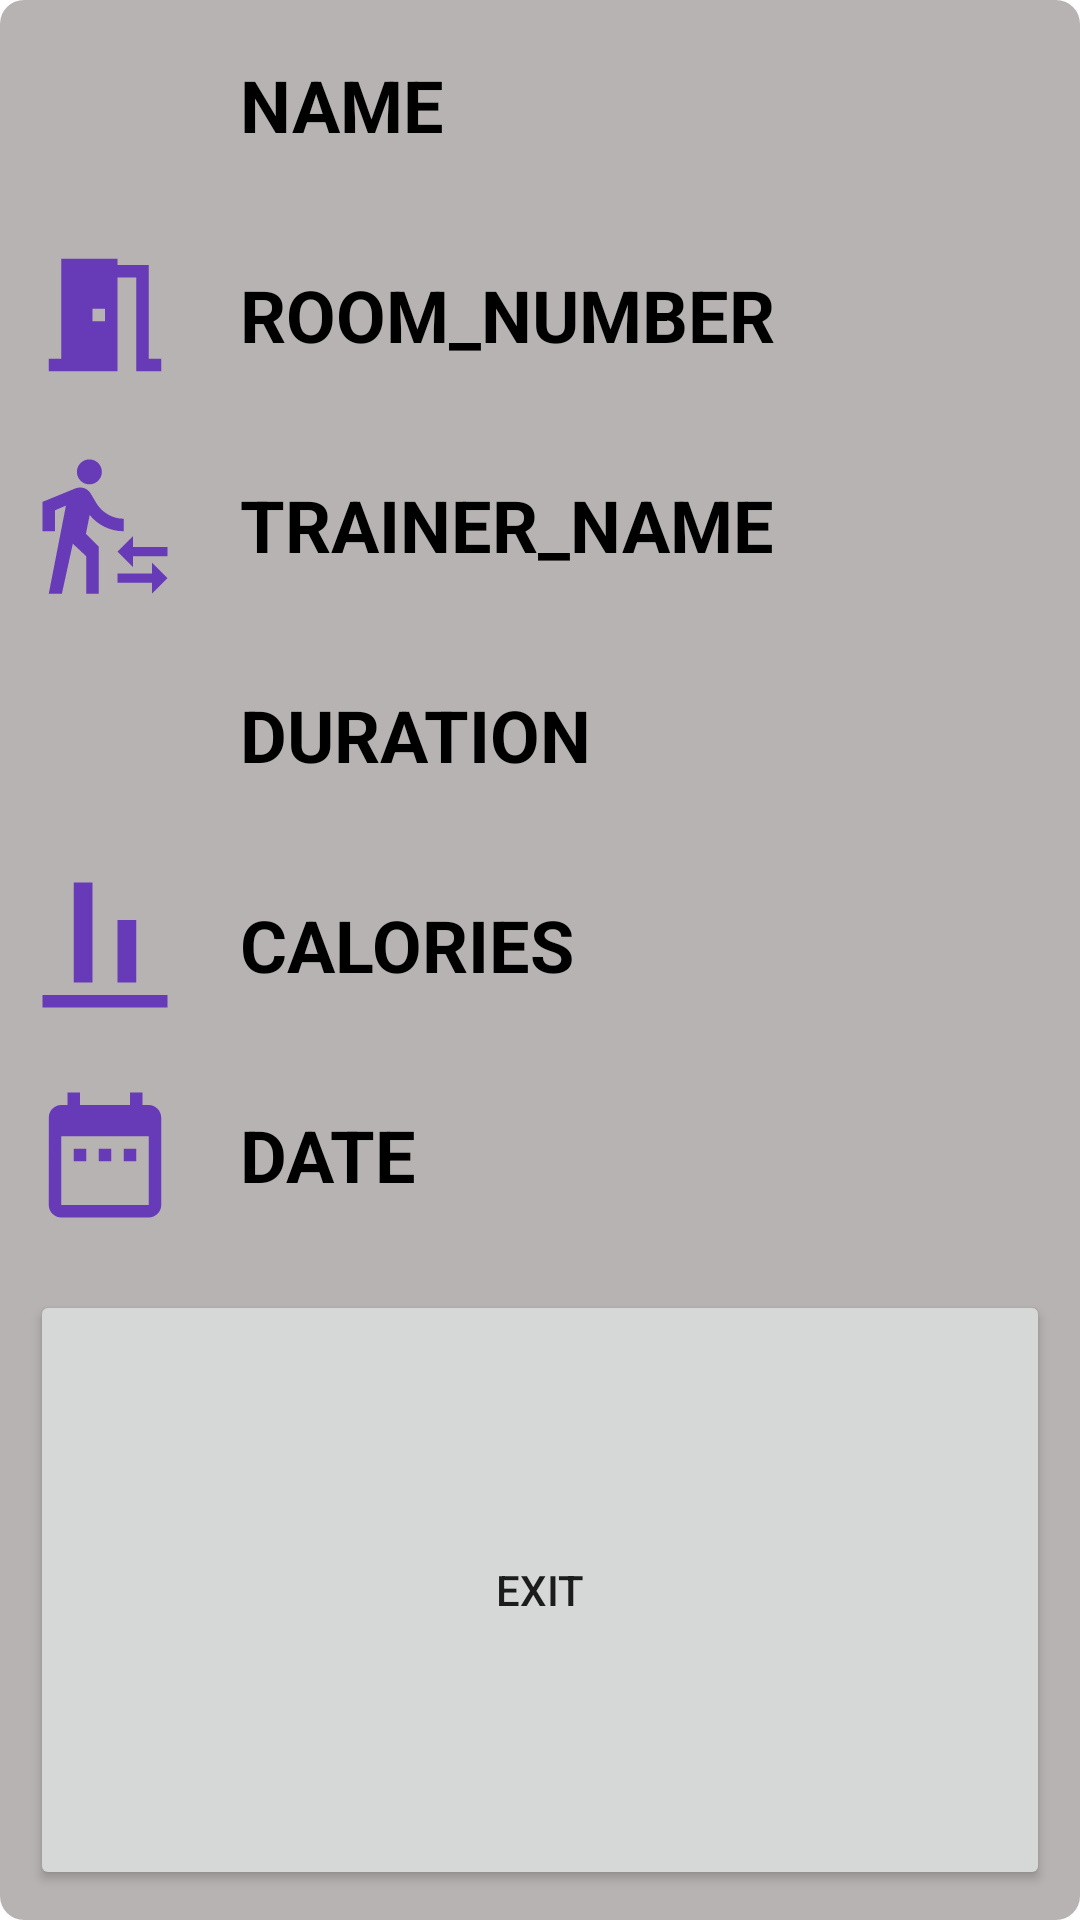

Named icons in this screenshot (1080×1920) and their centers, (x,y):
align vertical bottom: (105,945)
meeting room: (105,315)
transfer within station: (105,526)
